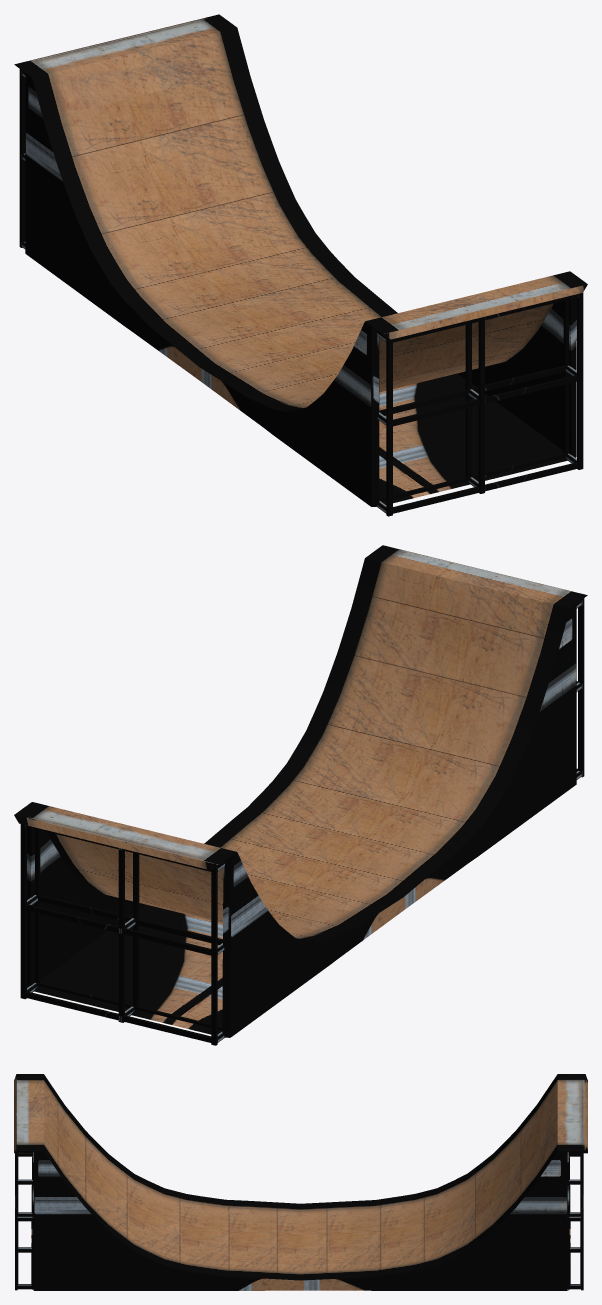
File: Ramp05.fbx
The picture shows the model from 3 angles, top to bottom: view 1: azimuth 30°, elevation 25°; view 2: azimuth 150°, elevation 25°; view 3: azimuth 270°, elevation 25°; orthographic projection. The views are drawn at different scales.
Parts seen in each view (by area): view 1: Ramp05; view 2: Ramp05; view 3: Ramp05.
Part boxes in pixels (<box>): Ramp05: <box>14,14,587,516</box>; Ramp05: <box>14,545,587,1045</box>; Ramp05: <box>14,1074,587,1290</box>.
Bounding box in the file's own units: 3.95 × 3.36 × 12.4.
